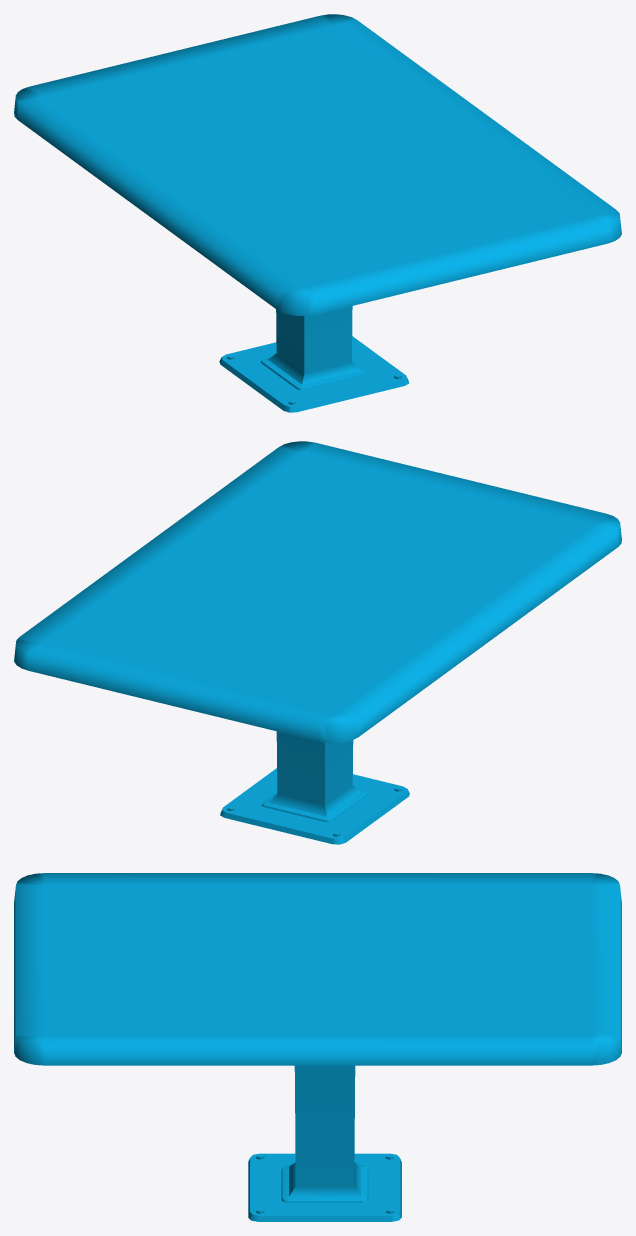
Rendered from Restaurant_Table_01B_Lod0.fbx.
The picture shows the model from 3 angles, top to bottom: view 1: azimuth 30°, elevation 25°; view 2: azimuth 150°, elevation 25°; view 3: azimuth 270°, elevation 25°; orthographic projection. The views are drawn at different scales.
Parts seen in each view (by area): view 1: Restaurant_Table_01B_Lod0; view 2: Restaurant_Table_01B_Lod0; view 3: Restaurant_Table_01B_Lod0.
Part boxes in pixels (bbox=[...]): Restaurant_Table_01B_Lod0: bbox=[14, 14, 621, 412]; Restaurant_Table_01B_Lod0: bbox=[14, 441, 621, 844]; Restaurant_Table_01B_Lod0: bbox=[14, 873, 621, 1221].
Size of the model in its own units: 120 by 73.76 by 177.
